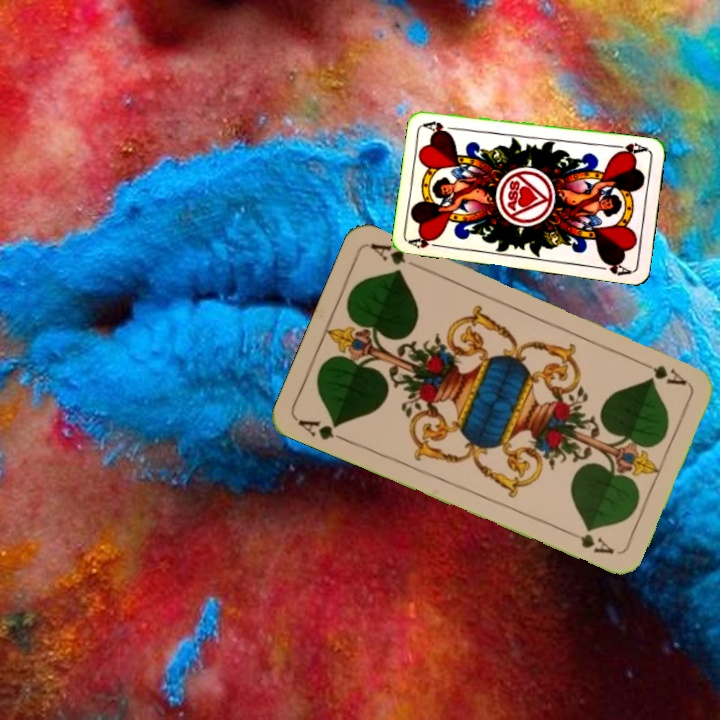GA: (634, 356, 689, 388), (293, 415, 351, 445)
HA: (406, 231, 447, 251), (609, 139, 650, 158)
